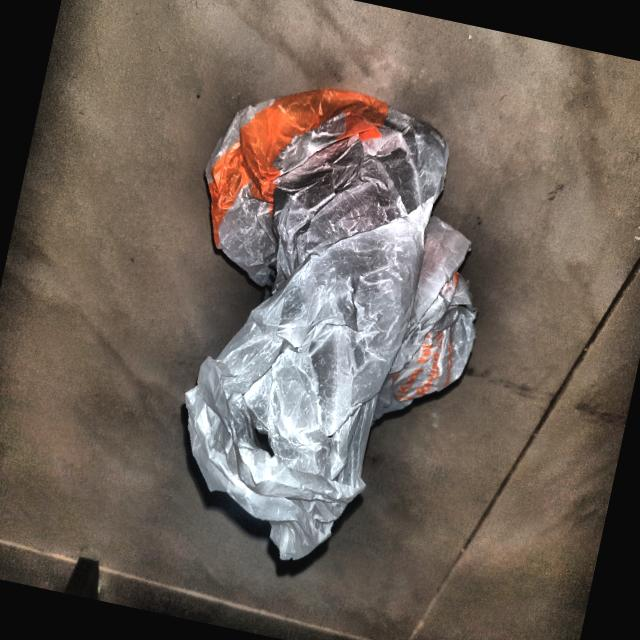plastic bag: (115, 35, 540, 610)
